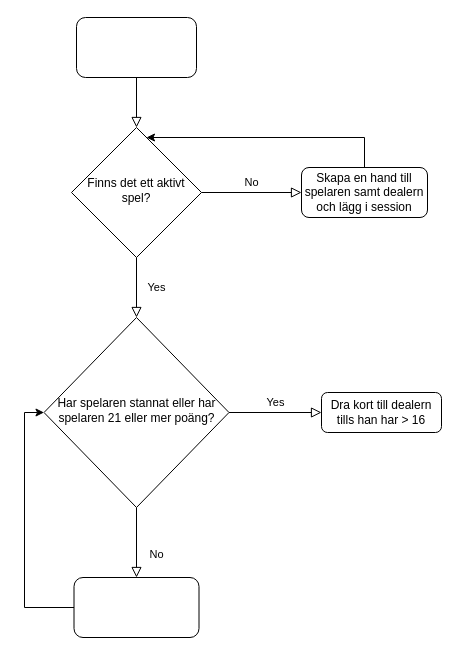
Some shapes in this 459 by 655 pixel diagram are drawn without their labels. The box of each missing label's shape, as (x1, y1, x2, y2) in pixels:
Blackjack spel: (76, 16, 196, 78)
Spelaren får välja mellan att stanna eller dra kort: (73, 576, 199, 638)
